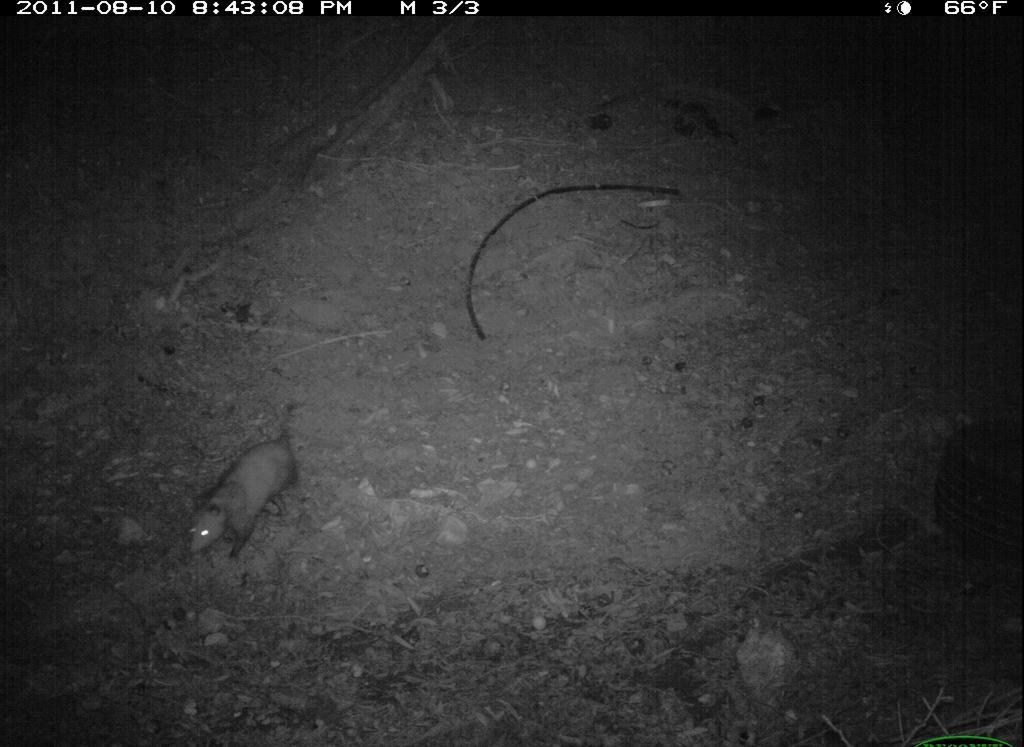opossum: (181, 392, 315, 574)
